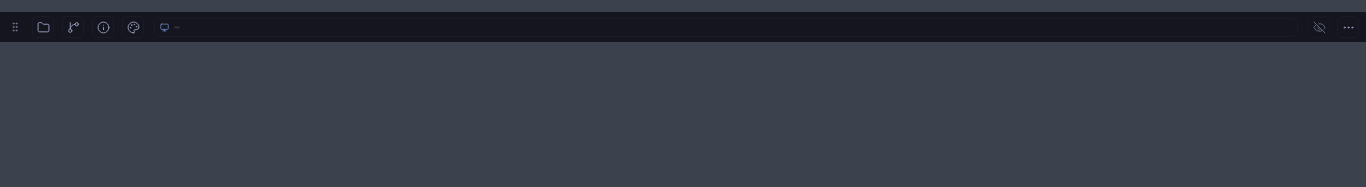
it: TerminalHeader › … menu — restart session › offers Restart session alongside Reload terminal
The width and height of the screenshot is (1366, 187).
Click the button titled "more".
click(1348, 27)  # box [1334, 13, 1362, 41]
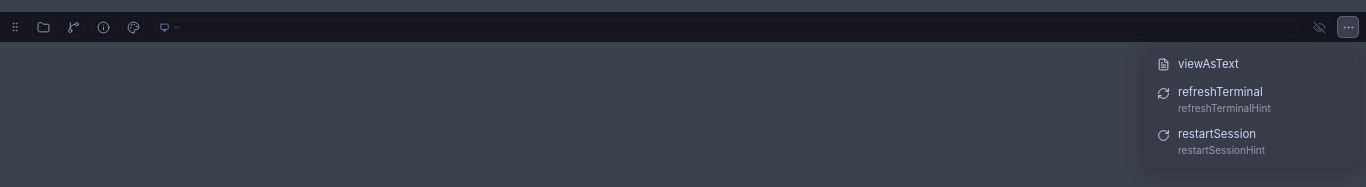
Now the text "refreshTerminal" is shown, box [1178, 85, 1271, 100]
Now the text "restartSession" is shown, box [1178, 127, 1265, 142]
